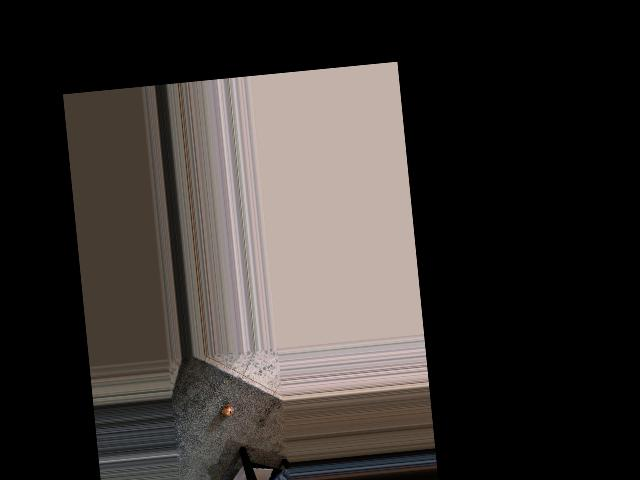onion: (216, 401, 234, 418)
